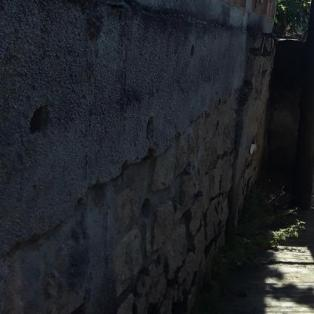Poste: (282, 0, 313, 208)
